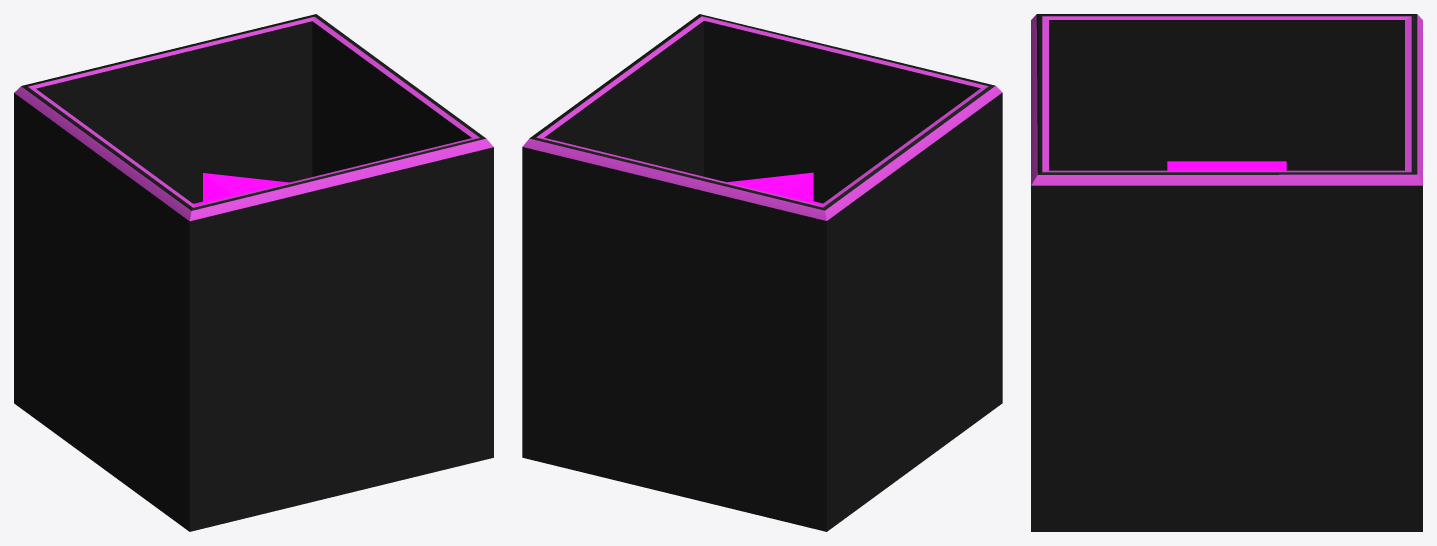
File: Botao.fbx
3 renders of one model, left to right at view 1: azimuth 30°, elevation 25°; view 2: azimuth 150°, elevation 25°; view 3: azimuth 270°, elevation 25°, orthographic. The views are drawn at different scales.
Visible parts, largest first — view 1: pCube1, pCube2; view 2: pCube1, pCube2; view 3: pCube1, pCube2.
Part boxes in pixels (bbox=[...]): pCube1: bbox=[14, 14, 493, 531]; pCube2: bbox=[193, 173, 288, 205]; pCube1: bbox=[522, 14, 1002, 531]; pCube2: bbox=[727, 172, 822, 204]; pCube1: bbox=[1031, 14, 1422, 531]; pCube2: bbox=[1167, 161, 1286, 170].
Size of the model in its own units: 1 by 1 by 1.
